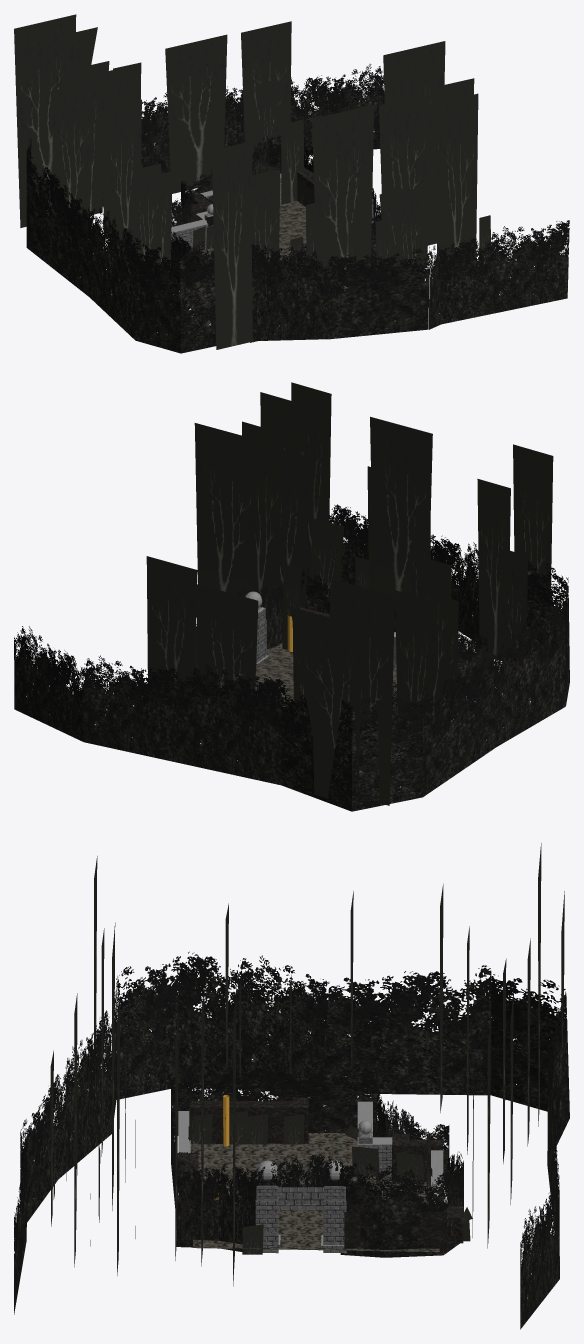
Rendered from cgc_entrance.fbx.
The picture shows the model from 3 angles, top to bottom: view 1: azimuth 30°, elevation 25°; view 2: azimuth 150°, elevation 25°; view 3: azimuth 270°, elevation 25°; orthographic projection. The views are drawn at different scales.
Parts seen in each view (by area): view 1: farbushes, pPlane274, pPlane292, pPlane50, pPlane277, pPlane269, pPlane326, tree_43, pPlane275, pPlane53, closebushes, pPlane328 (+18 smaller); view 2: farbushes, pPlane328, pPlane274, pPlane291, pPlane277, pPlane275, pPlane292, pPlane50, pPlane271, pPlane329, tree_43, pPlane269 (+11 smaller); view 3: farbushes, closebushes, ground1, polySurface25 (×3), pCube136, pCube145, pCube128, pPlane329, pPlane269, polySurface26, pPlane179, pPlane328 (+15 smaller).
Part boxes in pixels (left/top/right/bottom): farbushes: left=26, top=64, right=569, bottom=353; pPlane274: left=312, top=104, right=374, bottom=295; pPlane292: left=165, top=34, right=227, bottom=193; pPlane50: left=212, top=141, right=252, bottom=349; pPlane277: left=14, top=14, right=76, bottom=227; pPlane269: left=437, top=93, right=478, bottom=276; pPlane326: left=379, top=94, right=429, bottom=266; tree_43: left=50, top=81, right=93, bottom=244; pPlane275: left=241, top=21, right=291, bottom=165; pPlane53: left=107, top=99, right=141, bottom=262; closebushes: left=171, top=135, right=381, bottom=298; pPlane328: left=383, top=41, right=445, bottom=245; farbushes: left=14, top=504, right=569, bottom=811; pPlane328: left=194, top=423, right=257, bottom=596; pPlane274: left=370, top=416, right=432, bottom=616; pPlane291: left=290, top=607, right=362, bottom=804; pPlane277: left=332, top=579, right=394, bottom=805; pPlane275: left=146, top=556, right=197, bottom=706; pPlane292: left=195, top=584, right=258, bottom=733; pPlane50: left=513, top=444, right=553, bottom=602; pPlane271: left=477, top=478, right=510, bottom=660; pPlane329: left=242, top=421, right=282, bottom=616; tree_43: left=395, top=590, right=437, bottom=750; pPlane269: left=291, top=382, right=331, bottom=591; farbushes: left=14, top=951, right=569, bottom=1329; closebushes: left=171, top=1065, right=463, bottom=1257; ground1: left=190, top=1133, right=439, bottom=1251; polySurface25 (×3): left=189, top=1106, right=463, bottom=1250; pCube136: left=357, top=1101, right=443, bottom=1203; pCube145: left=323, top=1200, right=346, bottom=1253; pCube128: left=255, top=1200, right=278, bottom=1253; pPlane329: left=201, top=989, right=204, bottom=1266; pPlane269: left=74, top=993, right=77, bottom=1267; polySurface26: left=189, top=1097, right=308, bottom=1108; pPlane179: left=352, top=1146, right=379, bottom=1176; pPlane328: left=233, top=997, right=236, bottom=1286.
Size of what is drawn, in the model's own units: 203 by 102 by 196.
